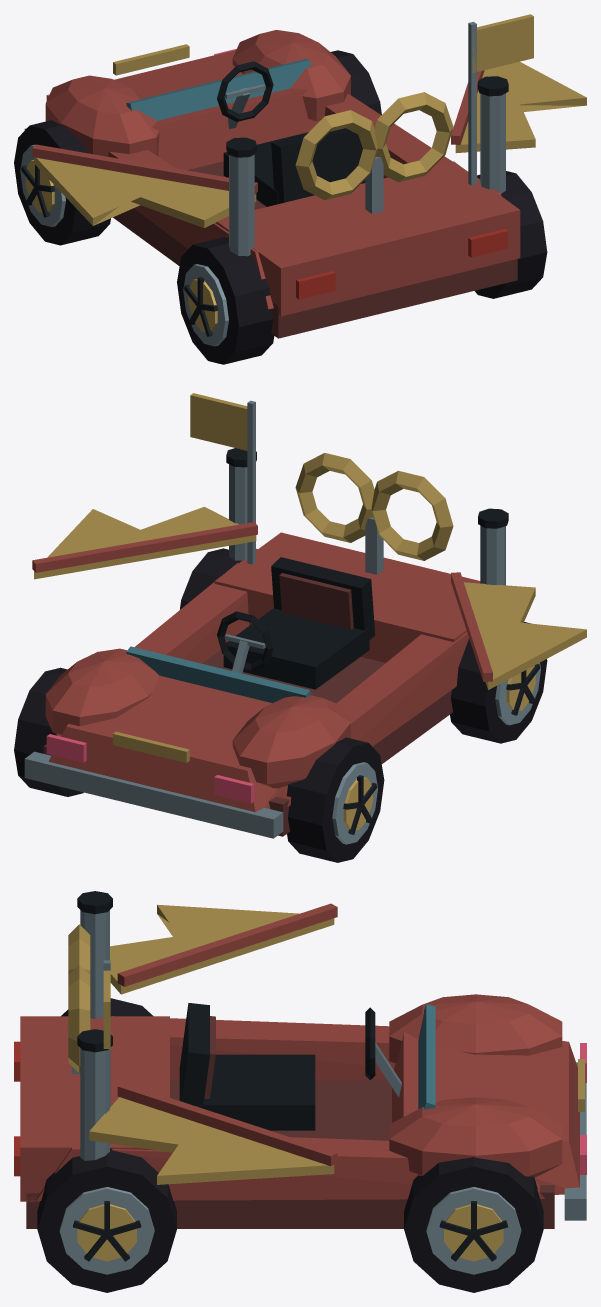
Rendered from kart.glb.
3 renders of one model, top to bottom at view 1: azimuth 30°, elevation 25°; view 2: azimuth 150°, elevation 25°; view 3: azimuth 270°, elevation 25°, orthographic. The views are drawn at different scales.
Visible parts, largest first — view 1: identity-toy-car-toy-rounded-body-and-wind-up-key, identity-toy-car-motif-dragon-wings, wheel-rear-left, identity-toy-car-driver-cockpit, identity-toy-car-motif-exhaust, wheel-front-left, identity-toy-car-motif-flag, wheel-rear-right, wheel-front-right; view 2: identity-toy-car-toy-rounded-body-and-wind-up-key, identity-toy-car-motif-dragon-wings, identity-toy-car-driver-cockpit, wheel-front-left, wheel-rear-left, identity-toy-car-motif-flag, identity-toy-car-motif-exhaust, wheel-front-right, wheel-rear-right; view 3: identity-toy-car-toy-rounded-body-and-wind-up-key, identity-toy-car-motif-dragon-wings, wheel-rear-right, wheel-front-right, identity-toy-car-driver-cockpit, identity-toy-car-motif-exhaust, identity-toy-car-motif-flag, wheel-rear-left.
Boxes of the visible parts, left/top/right/bottom form: identity-toy-car-toy-rounded-body-and-wind-up-key: left=24, top=30, right=520, bottom=338; identity-toy-car-motif-dragon-wings: left=32, top=61, right=586, bottom=228; wheel-rear-left: left=177, top=237, right=274, bottom=364; identity-toy-car-driver-cockpit: left=217, top=61, right=365, bottom=206; identity-toy-car-motif-exhaust: left=226, top=76, right=508, bottom=256; wheel-front-left: left=14, top=120, right=110, bottom=245; identity-toy-car-motif-flag: left=468, top=14, right=533, bottom=185; wheel-rear-right: left=475, top=171, right=547, bottom=298; wheel-front-right: left=331, top=50, right=381, bottom=114; identity-toy-car-toy-rounded-body-and-wind-up-key: left=24, top=453, right=480, bottom=838; identity-toy-car-motif-dragon-wings: left=32, top=506, right=586, bottom=689; identity-toy-car-driver-cockpit: left=217, top=557, right=375, bottom=689; wheel-front-left: left=286, top=737, right=384, bottom=862; wheel-rear-left: left=450, top=622, right=547, bottom=743; identity-toy-car-motif-flag: left=190, top=393, right=255, bottom=564; identity-toy-car-motif-exhaust: left=226, top=448, right=508, bottom=585; wheel-front-right: left=14, top=667, right=83, bottom=796; wheel-rear-right: left=180, top=548, right=241, bottom=609; identity-toy-car-toy-rounded-body-and-wind-up-key: left=14, top=924, right=586, bottom=1228; identity-toy-car-motif-dragon-wings: left=89, top=903, right=337, bottom=1184; wheel-rear-right: left=37, top=1148, right=176, bottom=1292; wheel-front-right: left=404, top=1157, right=543, bottom=1292; identity-toy-car-driver-cockpit: left=179, top=1003, right=401, bottom=1130; identity-toy-car-motif-exhaust: left=77, top=891, right=112, bottom=1160; identity-toy-car-motif-flag: left=103, top=960, right=110, bottom=1143; wheel-rear-left: left=61, top=998, right=153, bottom=1016.
Bounding box in the file's own units: 3.22 × 1.7 × 2.88.
